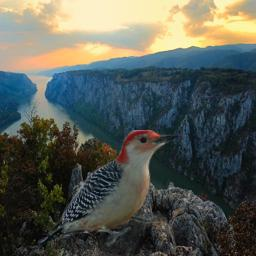Woodpecker: (38, 130, 182, 247)
